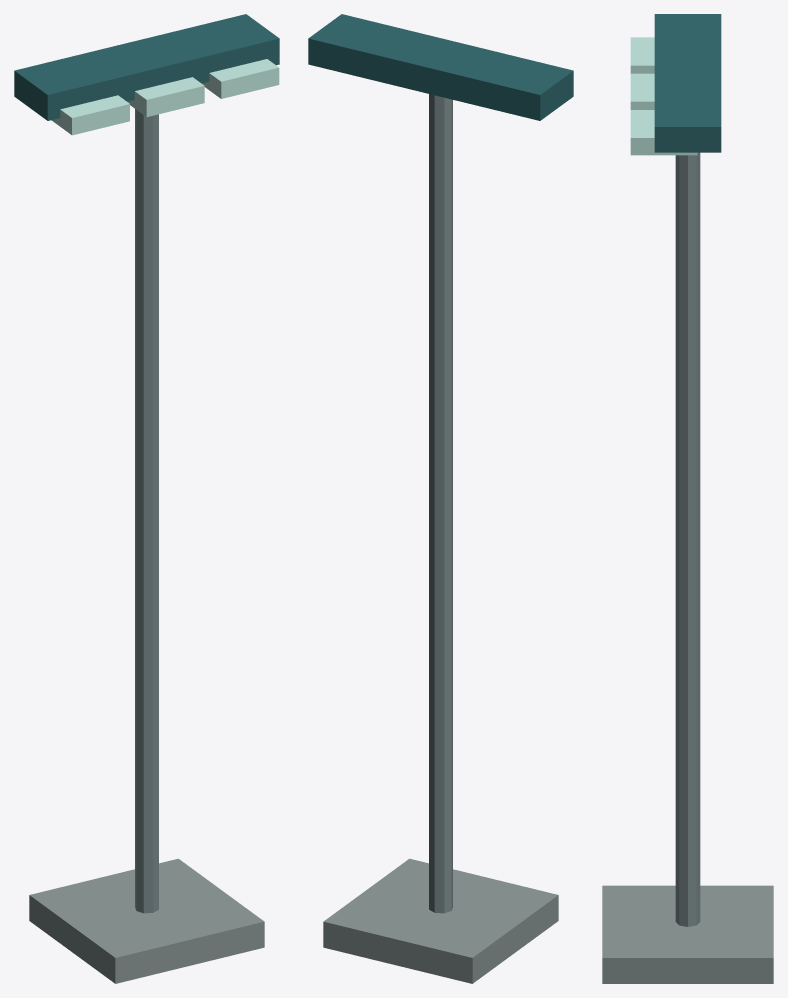
Rendered from floodlight.glb.
3 renders of one model, left to right at view 1: azimuth 30°, elevation 25°; view 2: azimuth 150°, elevation 25°; view 3: azimuth 270°, elevation 25°, orthographic.
Parts seen in each view (by area): view 1: floodlight; view 2: floodlight; view 3: floodlight.
Boxes of the visible parts, x1,y1,x2,y2 form: floodlight: [14, 14, 279, 983]; floodlight: [308, 14, 573, 983]; floodlight: [602, 14, 773, 983].
Bounding box in the file's own units: 2.8 × 10.15 × 1.8.
